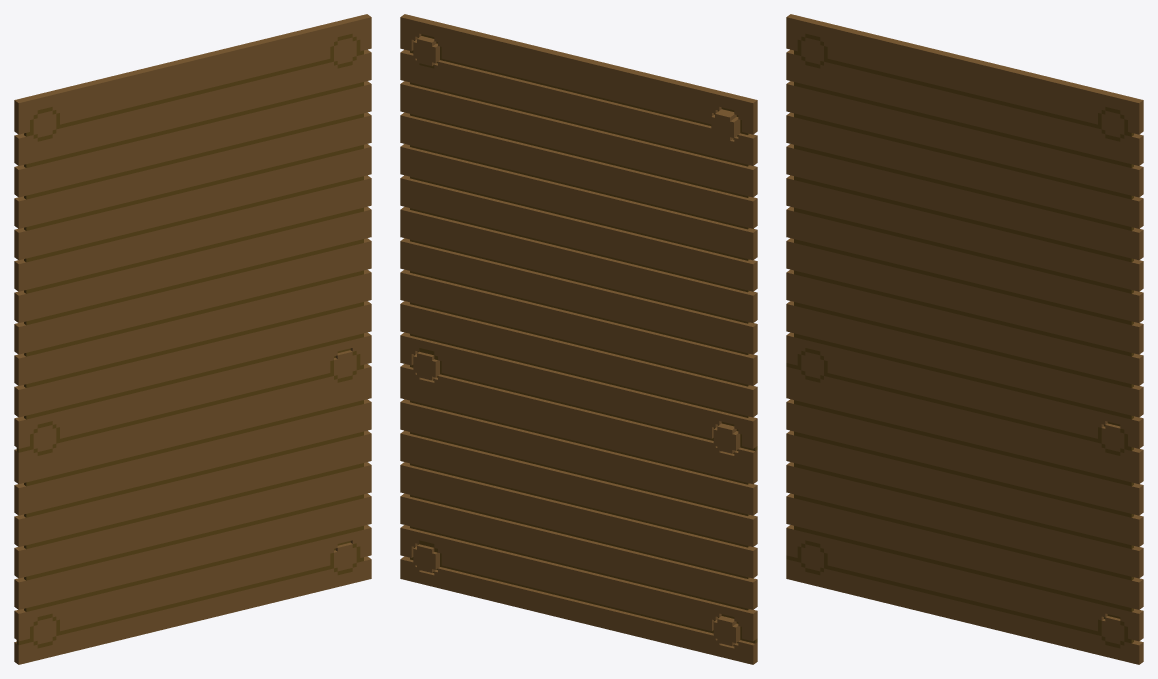
File: wall.obj
3 views of the same model, side by side, from view 1: azimuth 30°, elevation 25°; view 2: azimuth 150°, elevation 25°; view 3: azimuth 330°, elevation 25° (orthographic).
Size of the model in its own units: 9.4 by 14.3 by 0.4.
1 material, 1 textured.
